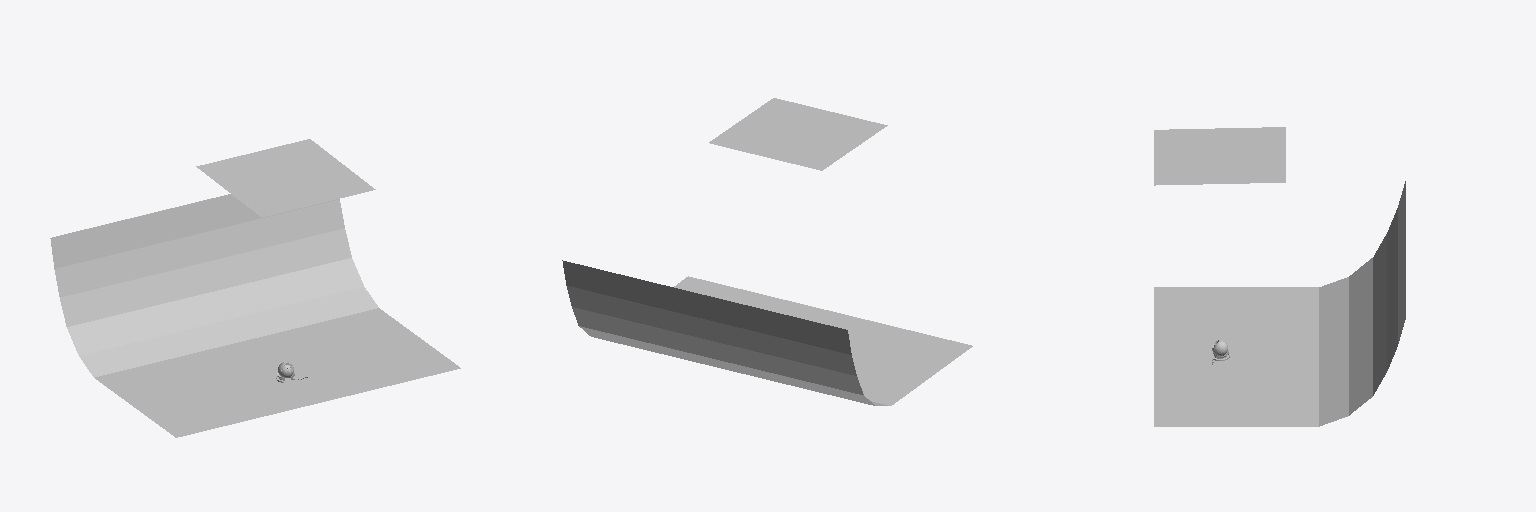
Rendered from knob.obj.
3 renders of one model, left to right at view 1: azimuth 30°, elevation 25°; view 2: azimuth 150°, elevation 25°; view 3: azimuth 270°, elevation 25°, orthographic.
Parts seen in each view (by area): view 1: background, outer; view 2: background, outer; view 3: background, outer.
Part boxes in pixels (x1,y1,x2,y2): background: (50, 194, 460, 437); outer: (196, 139, 375, 382); background: (562, 260, 972, 405); outer: (709, 98, 887, 170); background: (1154, 181, 1405, 426); outer: (1154, 127, 1285, 360).
Bounding box in the file's own units: 18.75 × 12.69 × 14.32.